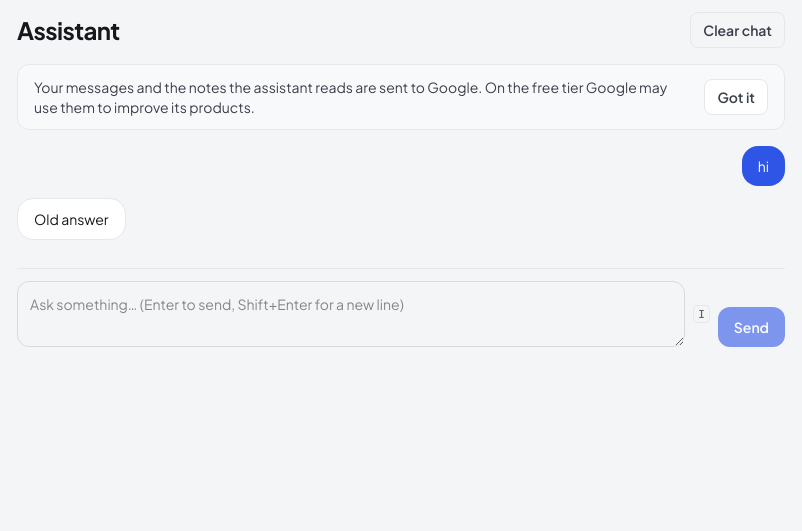
Test: AssistantPage › streaming › keeps the stopped bubble while history only holds an older identical message
Type "hi" into the text box named "Message the assistant" at (351, 314), box [17,281,685,347]
Then press Enter
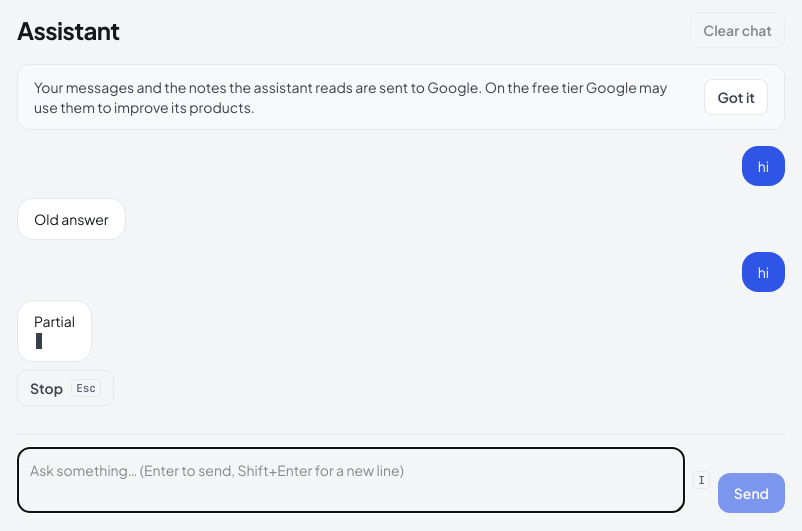
Expected: the text "Partial" is shown, [34,311,75,331]
Click the button "Stop Esc" at (65, 388), box [17,370,114,406]
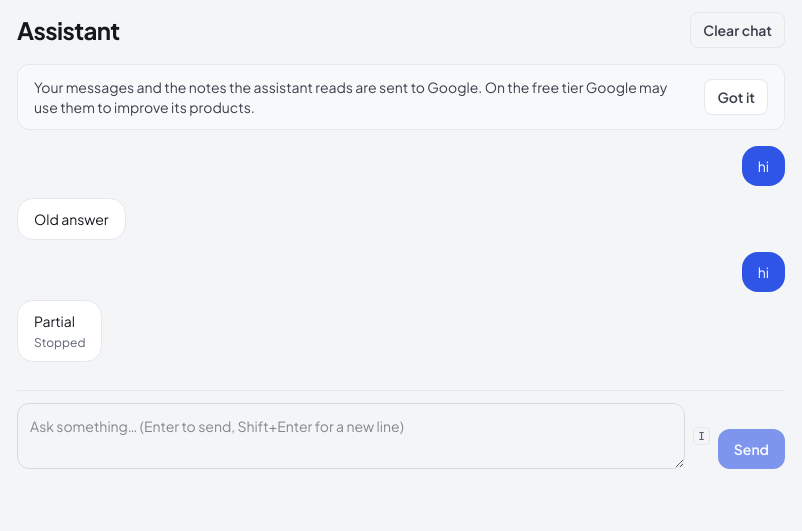
Expected: the text "Stopped" is shown, [34,335,85,351]
